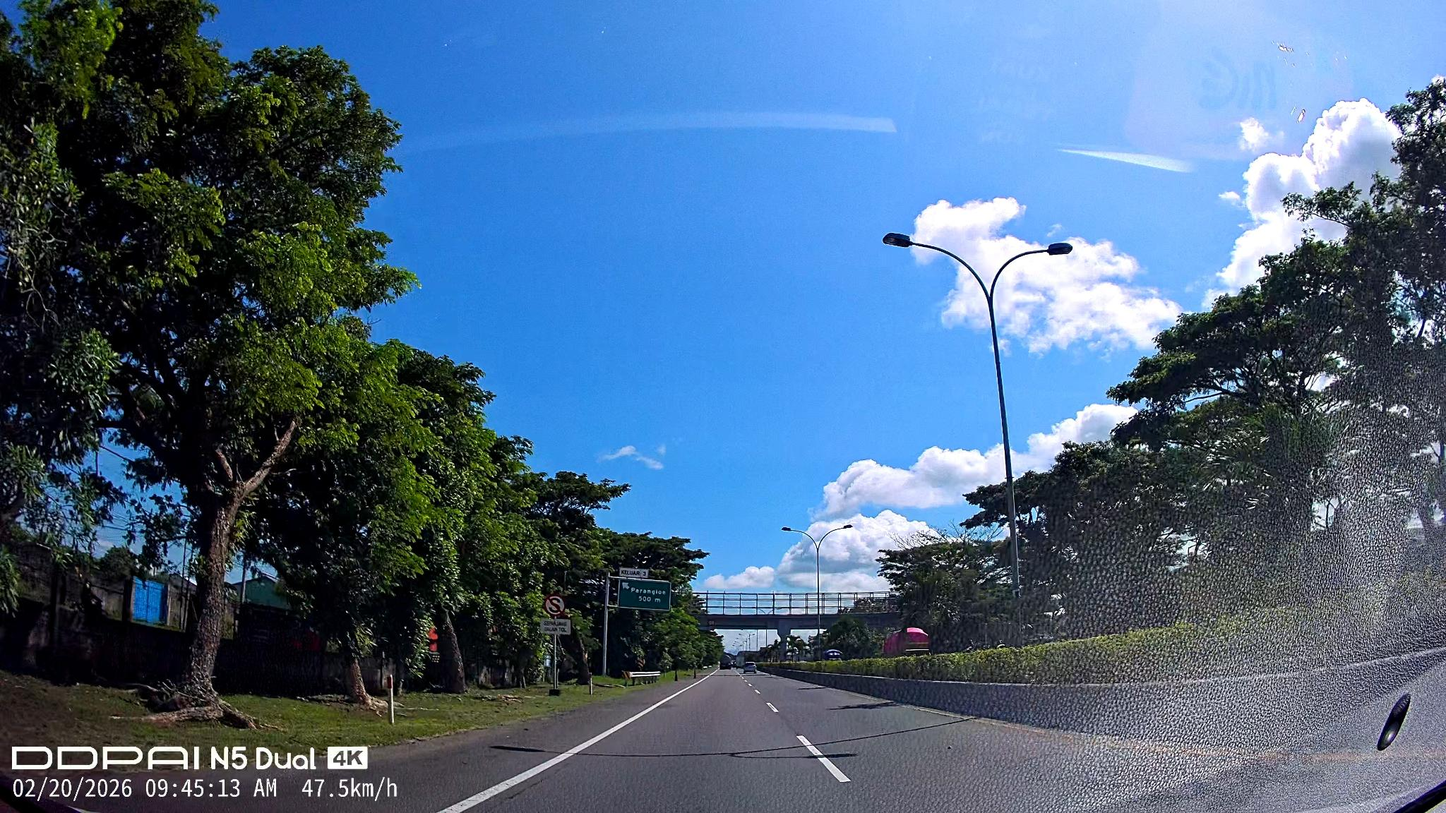rambu_teks: (617, 578, 672, 612)
